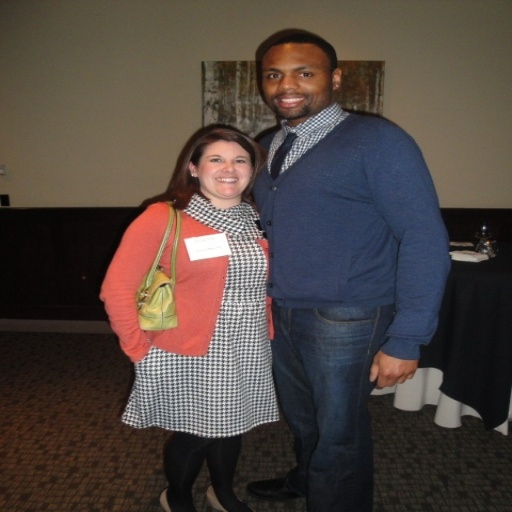hand: (368, 351, 424, 396)
